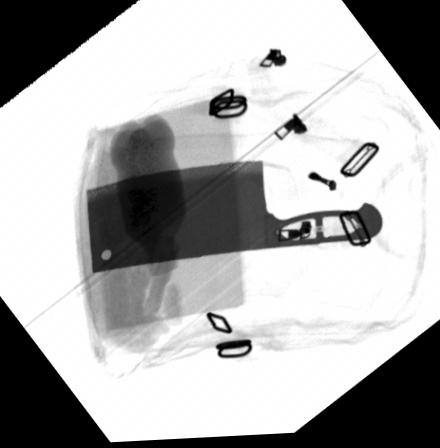Knife: (84, 162, 384, 275)
